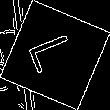L_E: (26, 31, 84, 79)
